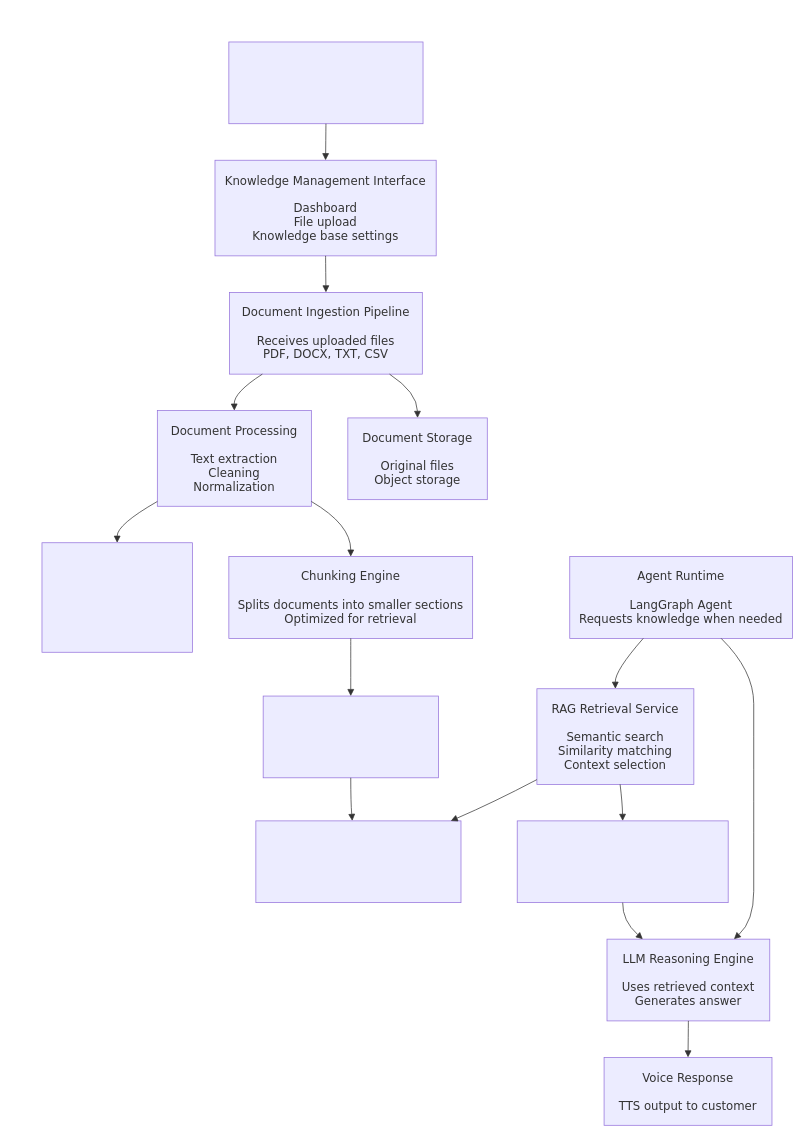
Image size: 805x1138. Some labels were removed from this diagram. Each missing label, with the box of its shape:
Business User Uploads company knowledge Documents and information: (228, 41, 423, 124)
Context Builder Combines retrieved information Creates LLM prompt context: (516, 820, 728, 903)
Embedding Generation Embedding Models Convert text into vectors: (262, 695, 438, 778)
Metadata Processing Tenant ID Document ID Permissions Tags: (41, 542, 192, 652)
Vector Database pgvector / Redis Vector Search Stores embeddings: (255, 820, 461, 903)
